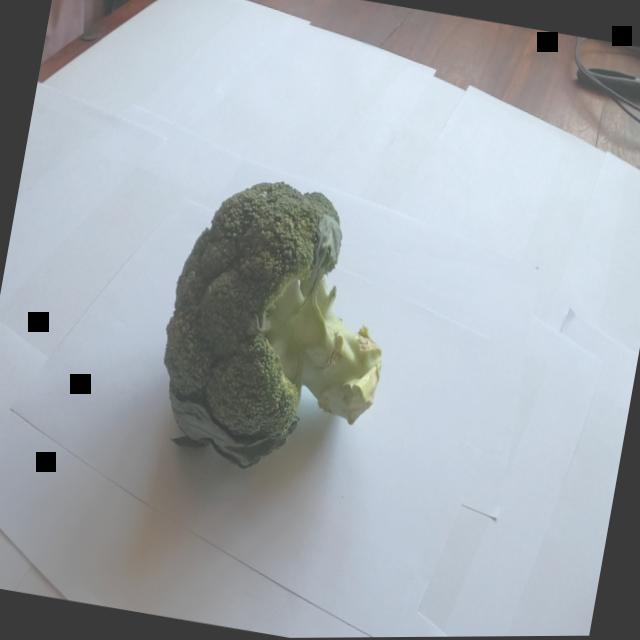Broccoli: (123, 143, 431, 531)
